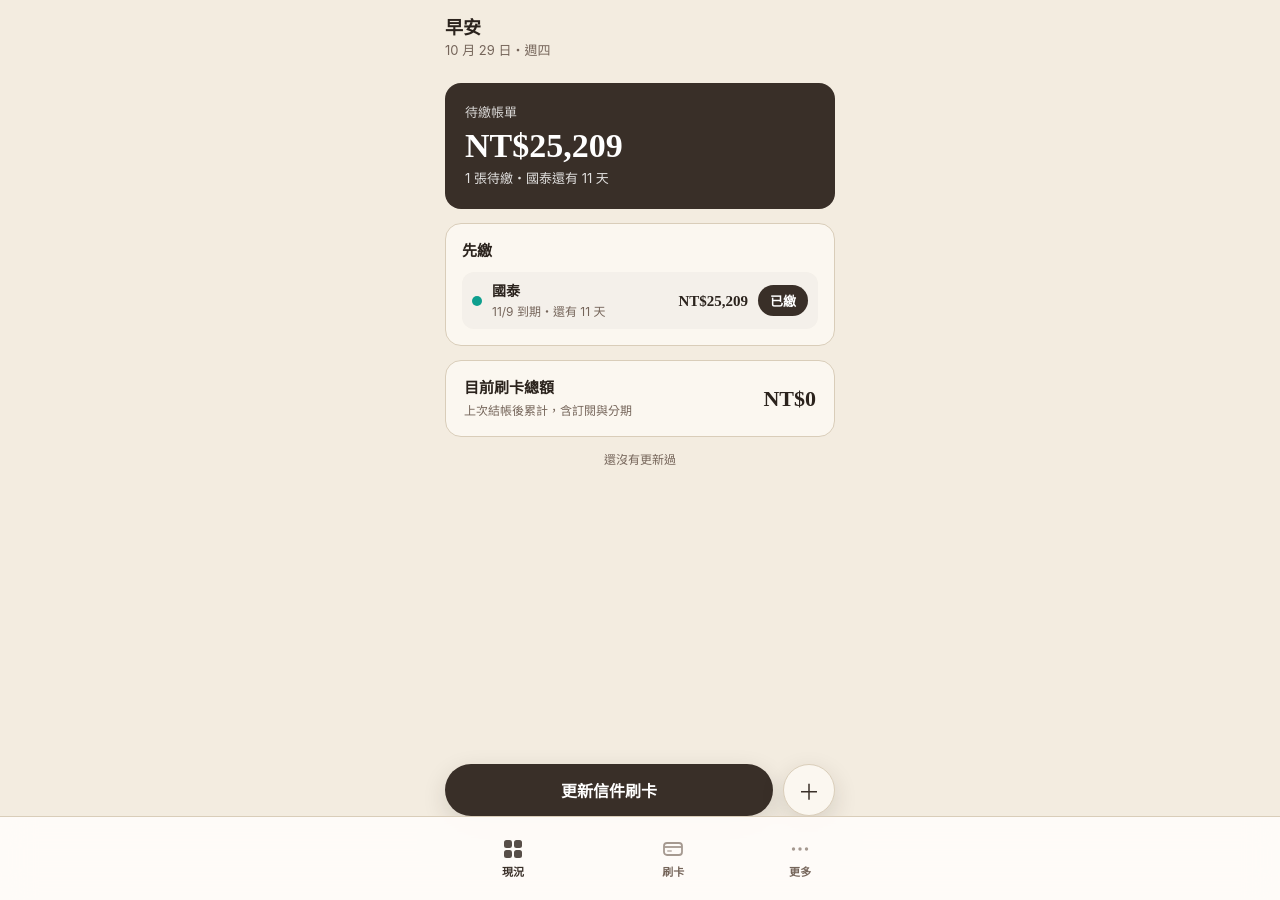
Scenario: 逐一點按鈕測試找到的問題 › 部分繳款沒填金額就按儲存：要告訴你要填，而不是什麼都沒發生
Click the button "更多" at (800,858), box [754, 826, 847, 890]
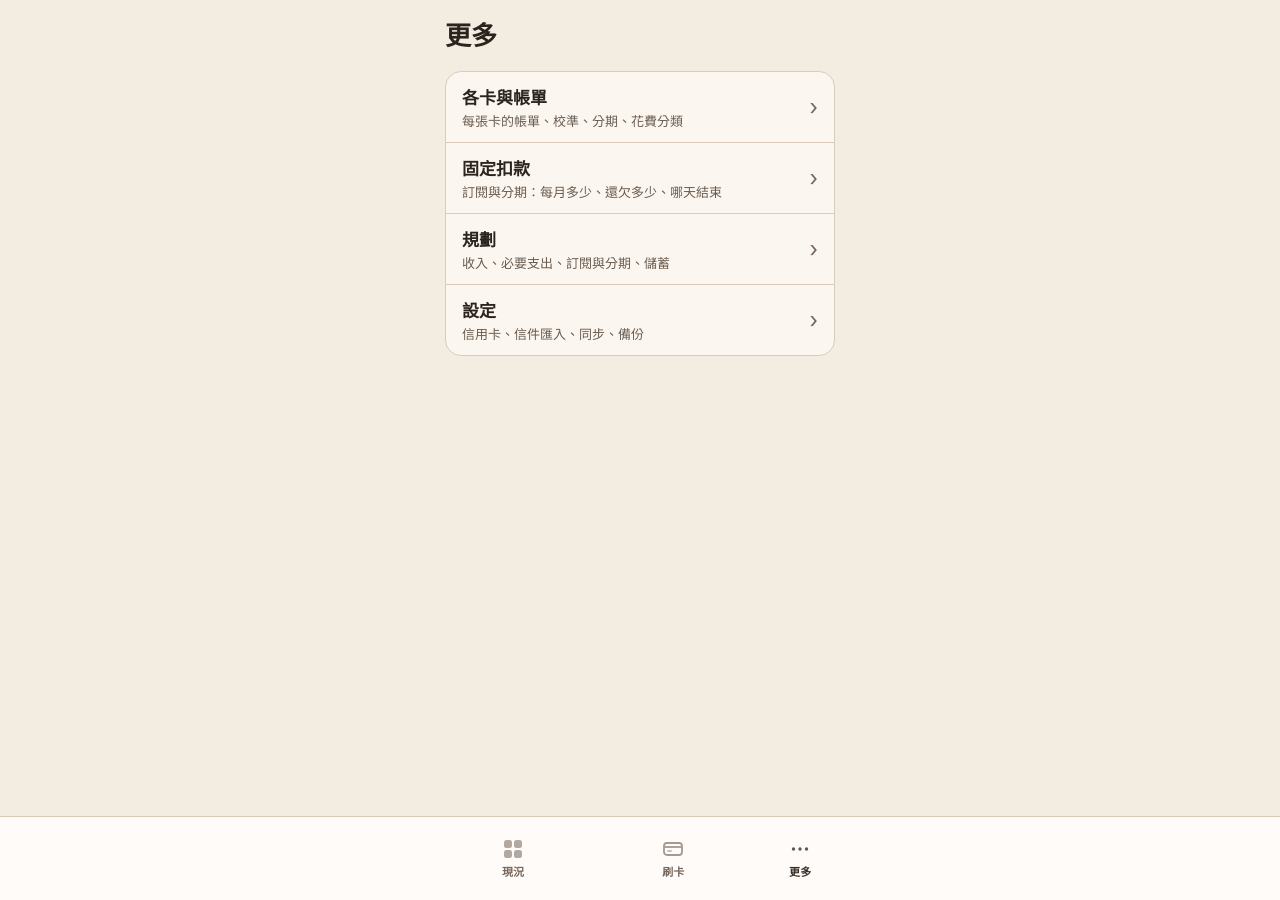
Click the button "各卡與帳單 每張卡的帳單、校準、分期、花費分類 ›" at (504,98), box [446, 72, 834, 142]
(page scrolled)
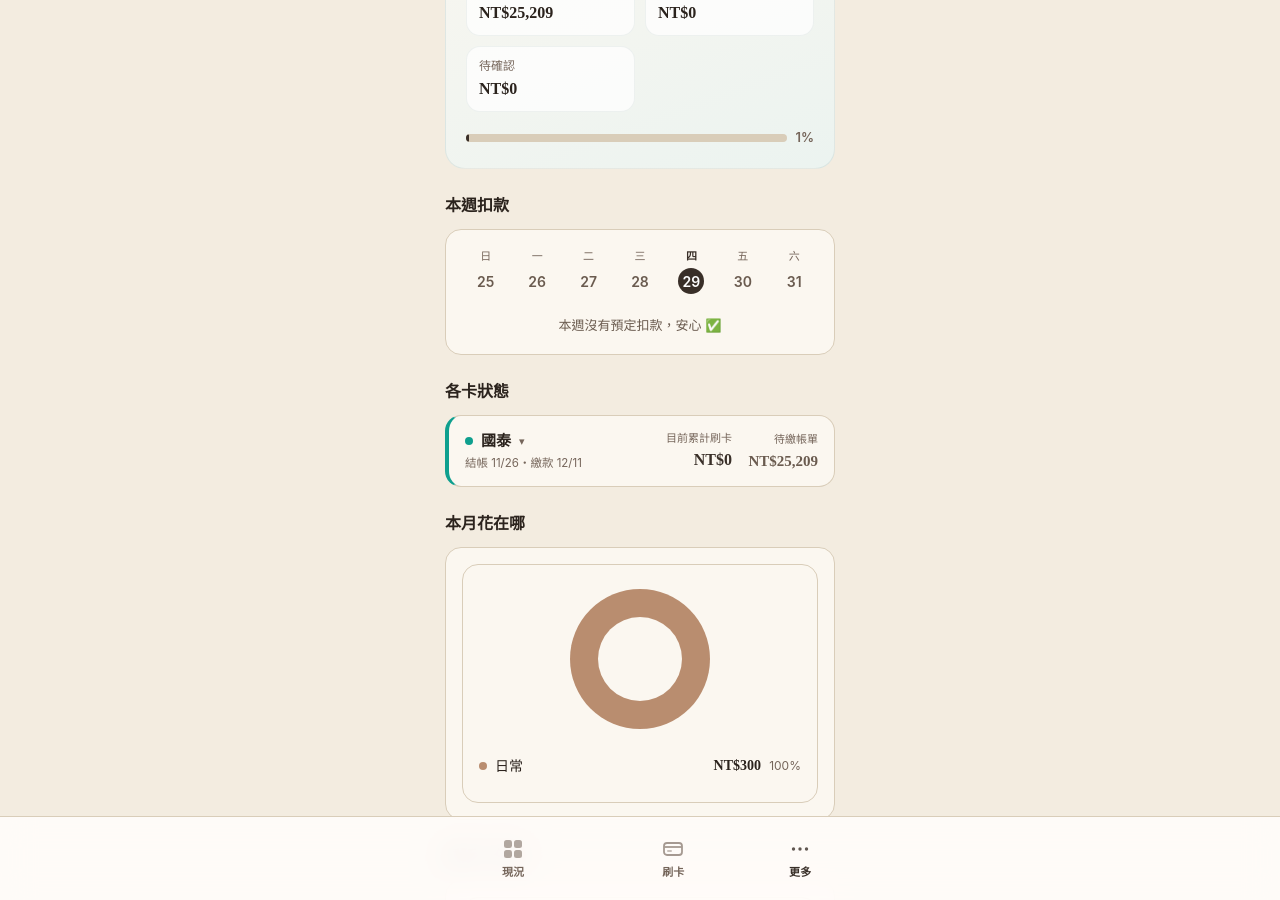
Click the button with class "credit-card-summary-row" at (496,441), box [449, 416, 834, 486]
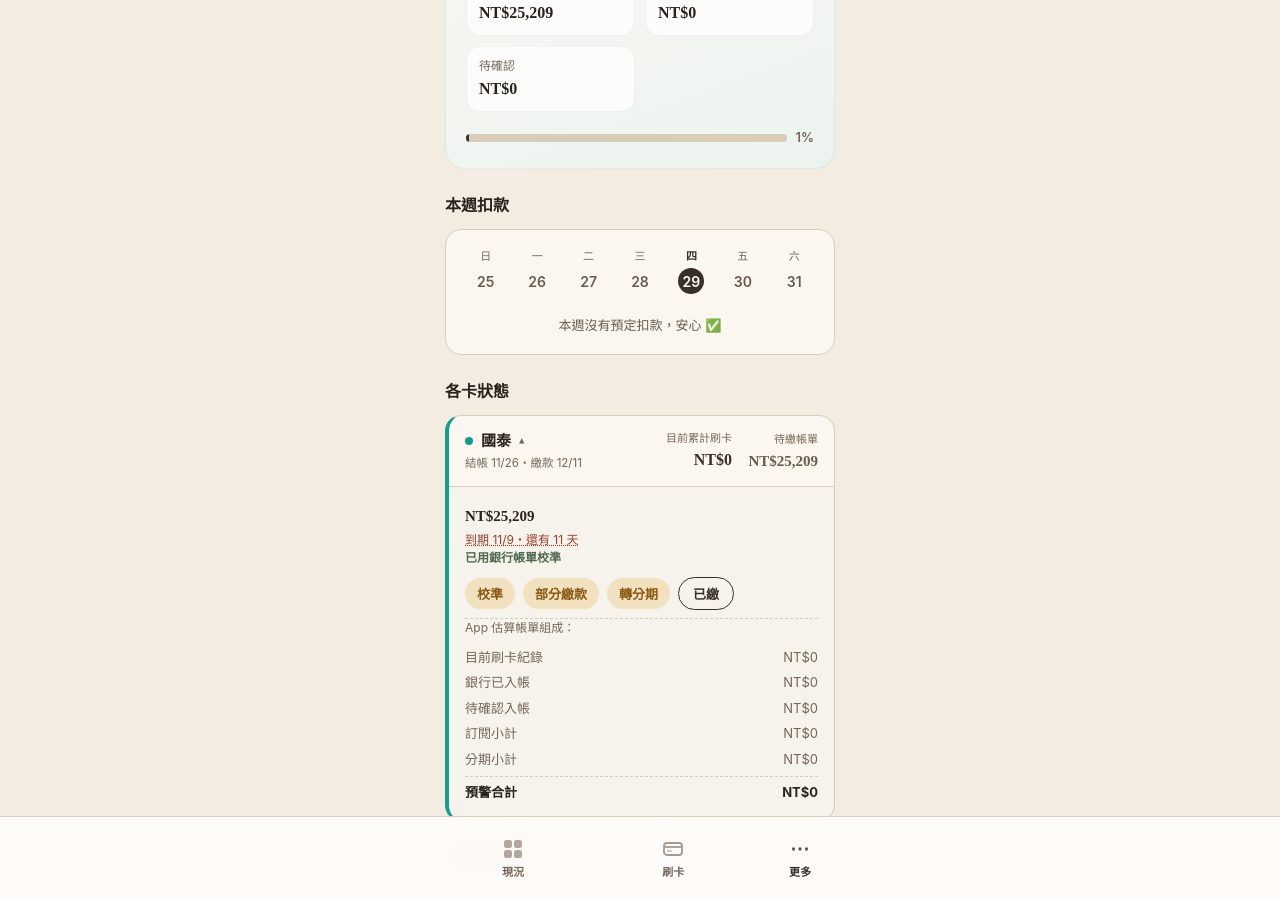
Click the button "部分繳款" at (561,593), box [523, 578, 599, 609]
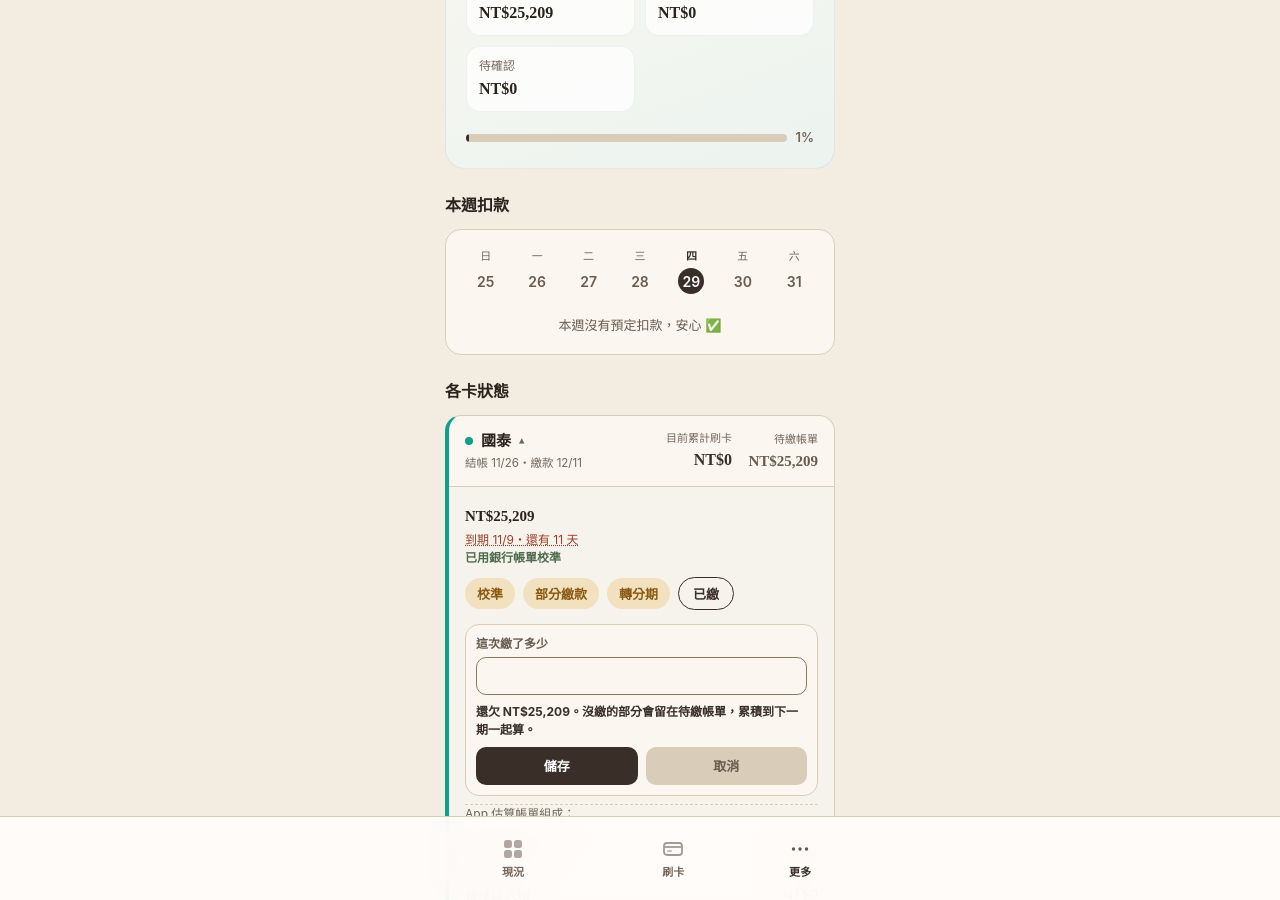
Click the button "儲存" at (557,766), box [476, 747, 638, 785]
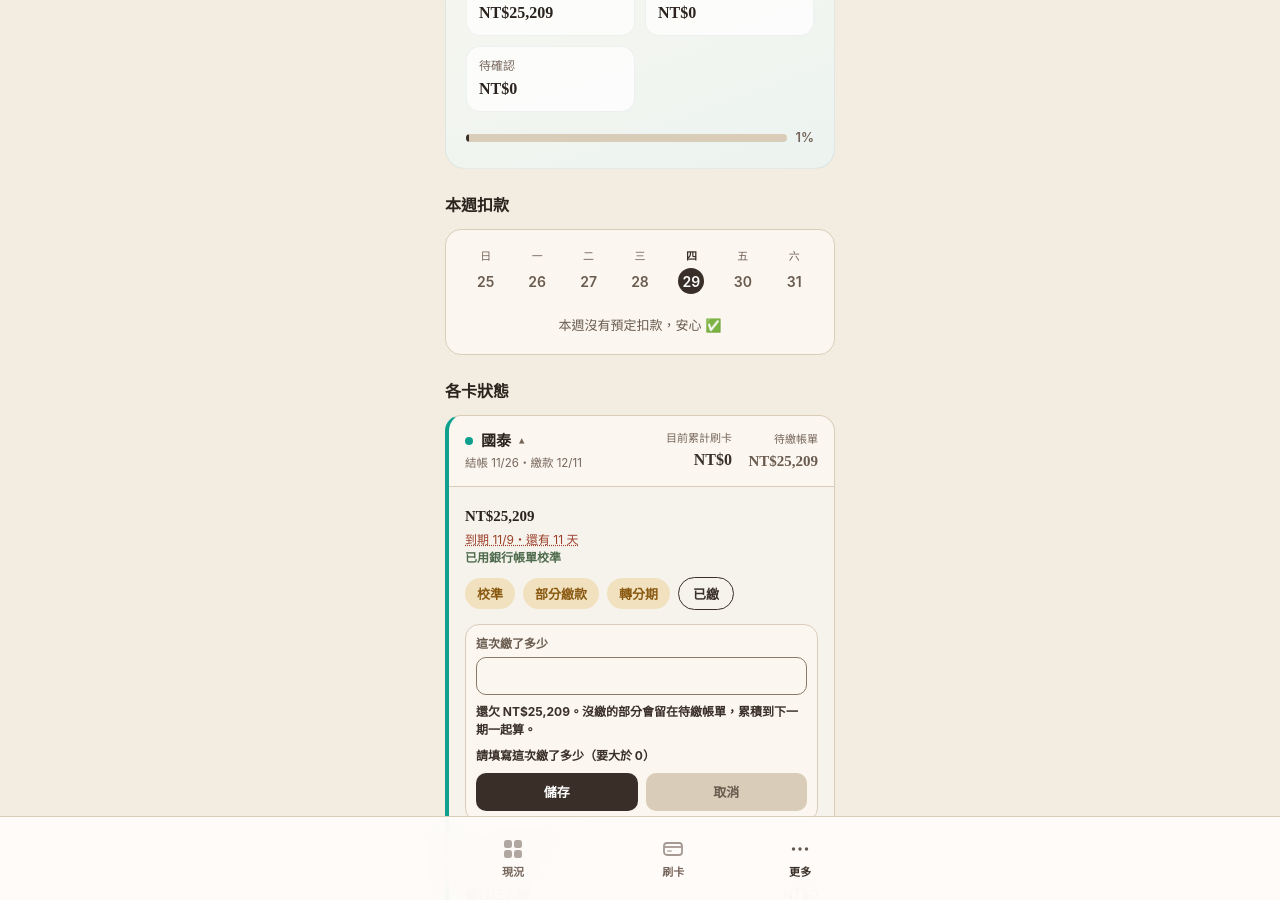
Result: the message shows "請填寫這次繳了多少" at [476, 748, 655, 763]
